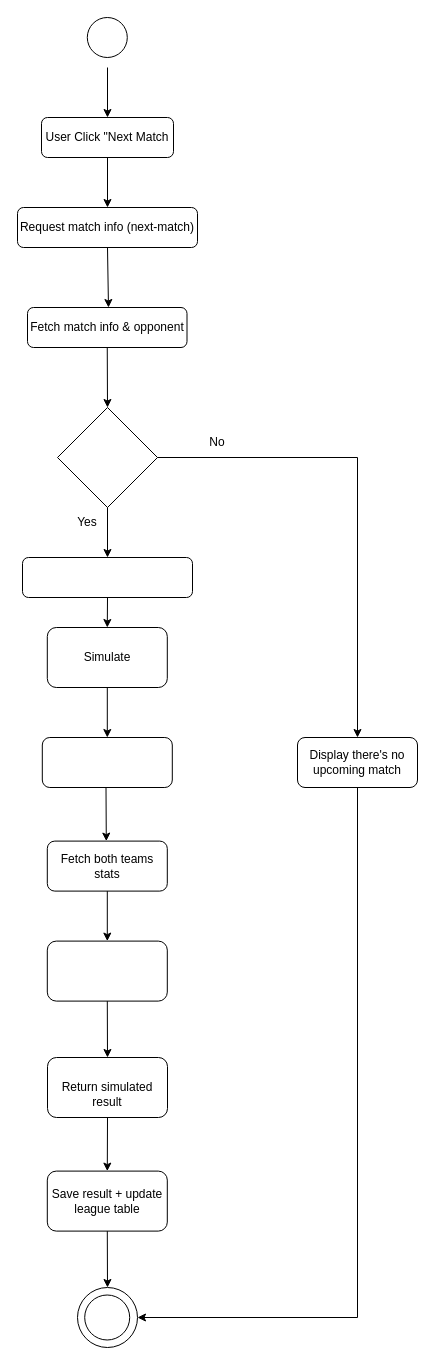
Image size: 435x1365. Some labels were removed from this diagram. Each missing label, with the box of its shape:
If there's Next Match: (56, 406, 158, 508)
Request simulation: (41, 736, 172, 788)
Run simulation: (46, 940, 167, 1001)
UI shows popup with 3 choices: (22, 556, 192, 598)
